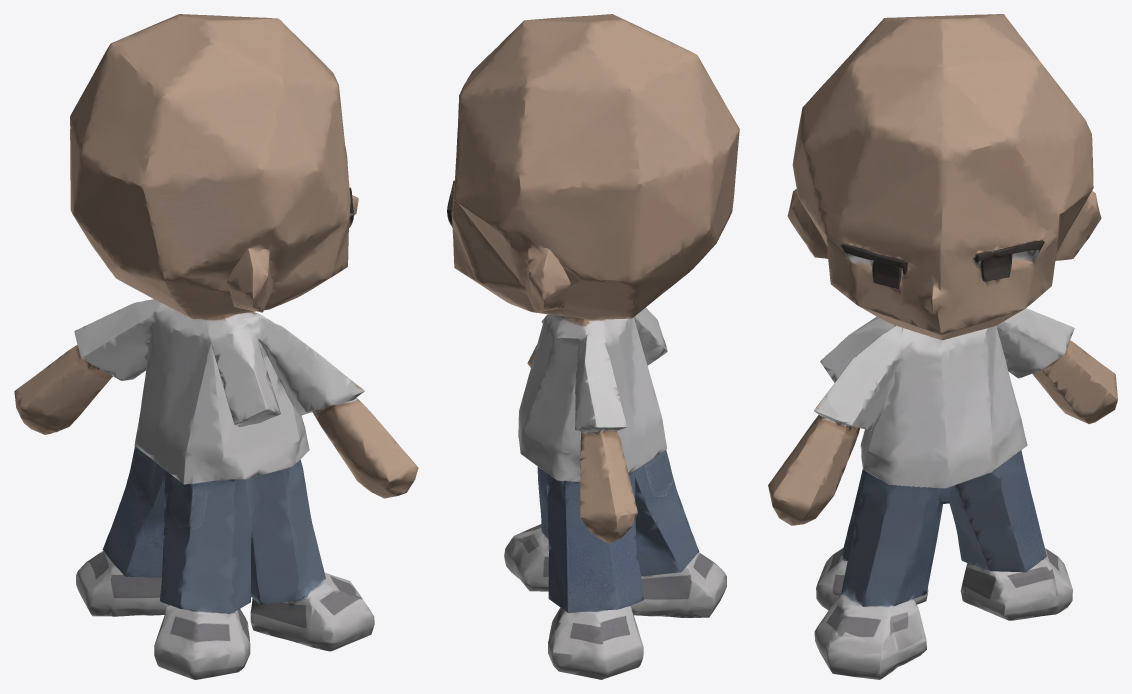
Rendered from dressed.glb.
3 renders of one model, left to right at view 1: azimuth 30°, elevation 25°; view 2: azimuth 150°, elevation 25°; view 3: azimuth 270°, elevation 25°, orthographic.
Parts seen in each view (by area): view 1: tripo_node_0af3f6c9-d572-4908-a2c4-fd4dffaf2eb3; view 2: tripo_node_0af3f6c9-d572-4908-a2c4-fd4dffaf2eb3; view 3: tripo_node_0af3f6c9-d572-4908-a2c4-fd4dffaf2eb3.
Part boxes in pixels (x1,y1,x2,y2): tripo_node_0af3f6c9-d572-4908-a2c4-fd4dffaf2eb3: [14, 14, 418, 679]; tripo_node_0af3f6c9-d572-4908-a2c4-fd4dffaf2eb3: [447, 14, 739, 679]; tripo_node_0af3f6c9-d572-4908-a2c4-fd4dffaf2eb3: [768, 14, 1117, 679].
Bounding box in the file's own units: 0.4701 × 1 × 0.5243.
1 material, 1 textured.
